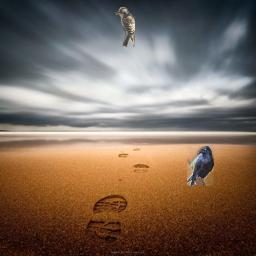Crow: (187, 146, 214, 186)
Woodpecker: (115, 7, 135, 47)
